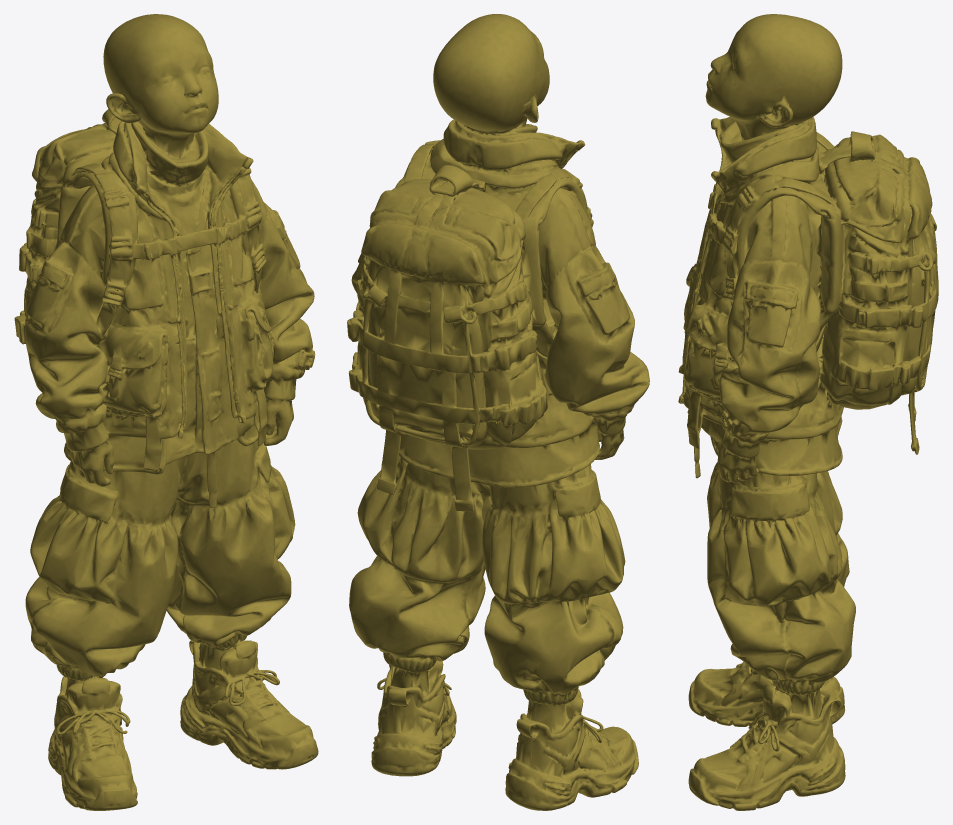
Rendered from golden-astroboy.glb.
The picture shows the model from 3 angles, left to right: view 1: azimuth 30°, elevation 25°; view 2: azimuth 150°, elevation 25°; view 3: azimuth 270°, elevation 25°; orthographic projection. The views are drawn at different scales.
Parts seen in each view (by area): view 1: mesh_node; view 2: mesh_node; view 3: mesh_node.
Part boxes in pixels (box(x1,y1,x2,y2)): mesh_node: box(14, 14, 318, 810); mesh_node: box(347, 14, 649, 810); mesh_node: box(678, 14, 938, 810).
Bounding box in the file's own units: 3.82 × 9.93 × 3.18.
1 material, 1 textured.
